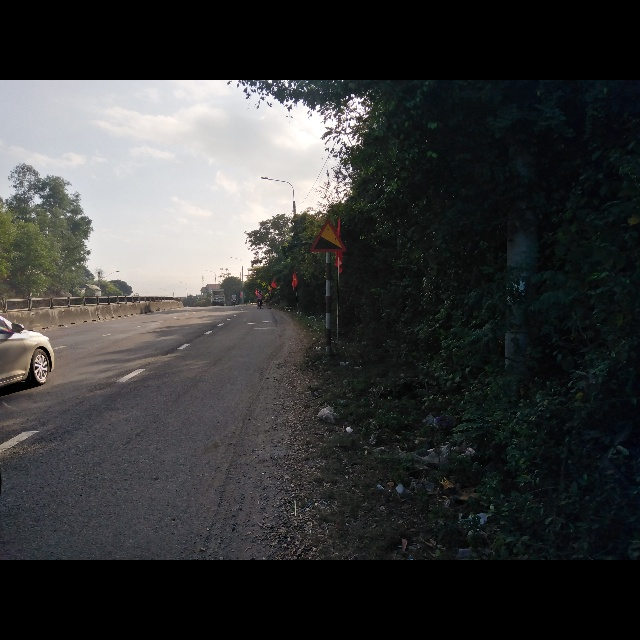Dốc lên nguy hiểm: (311, 223, 348, 252)
